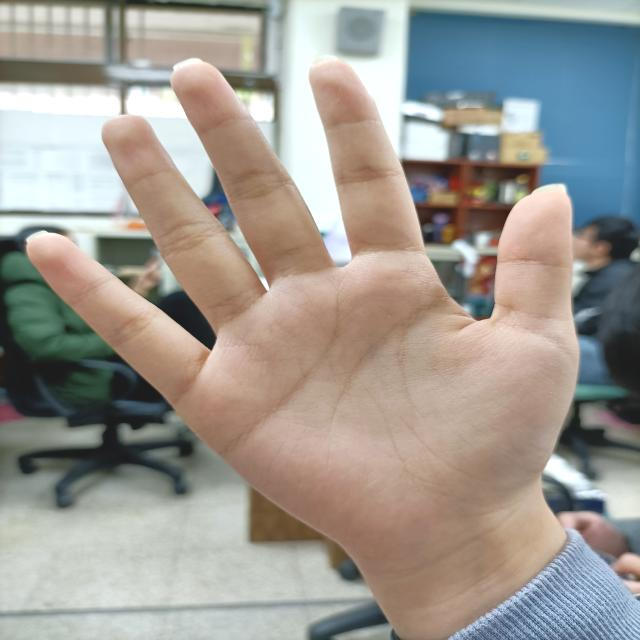no_glove: (15, 55, 599, 566)
